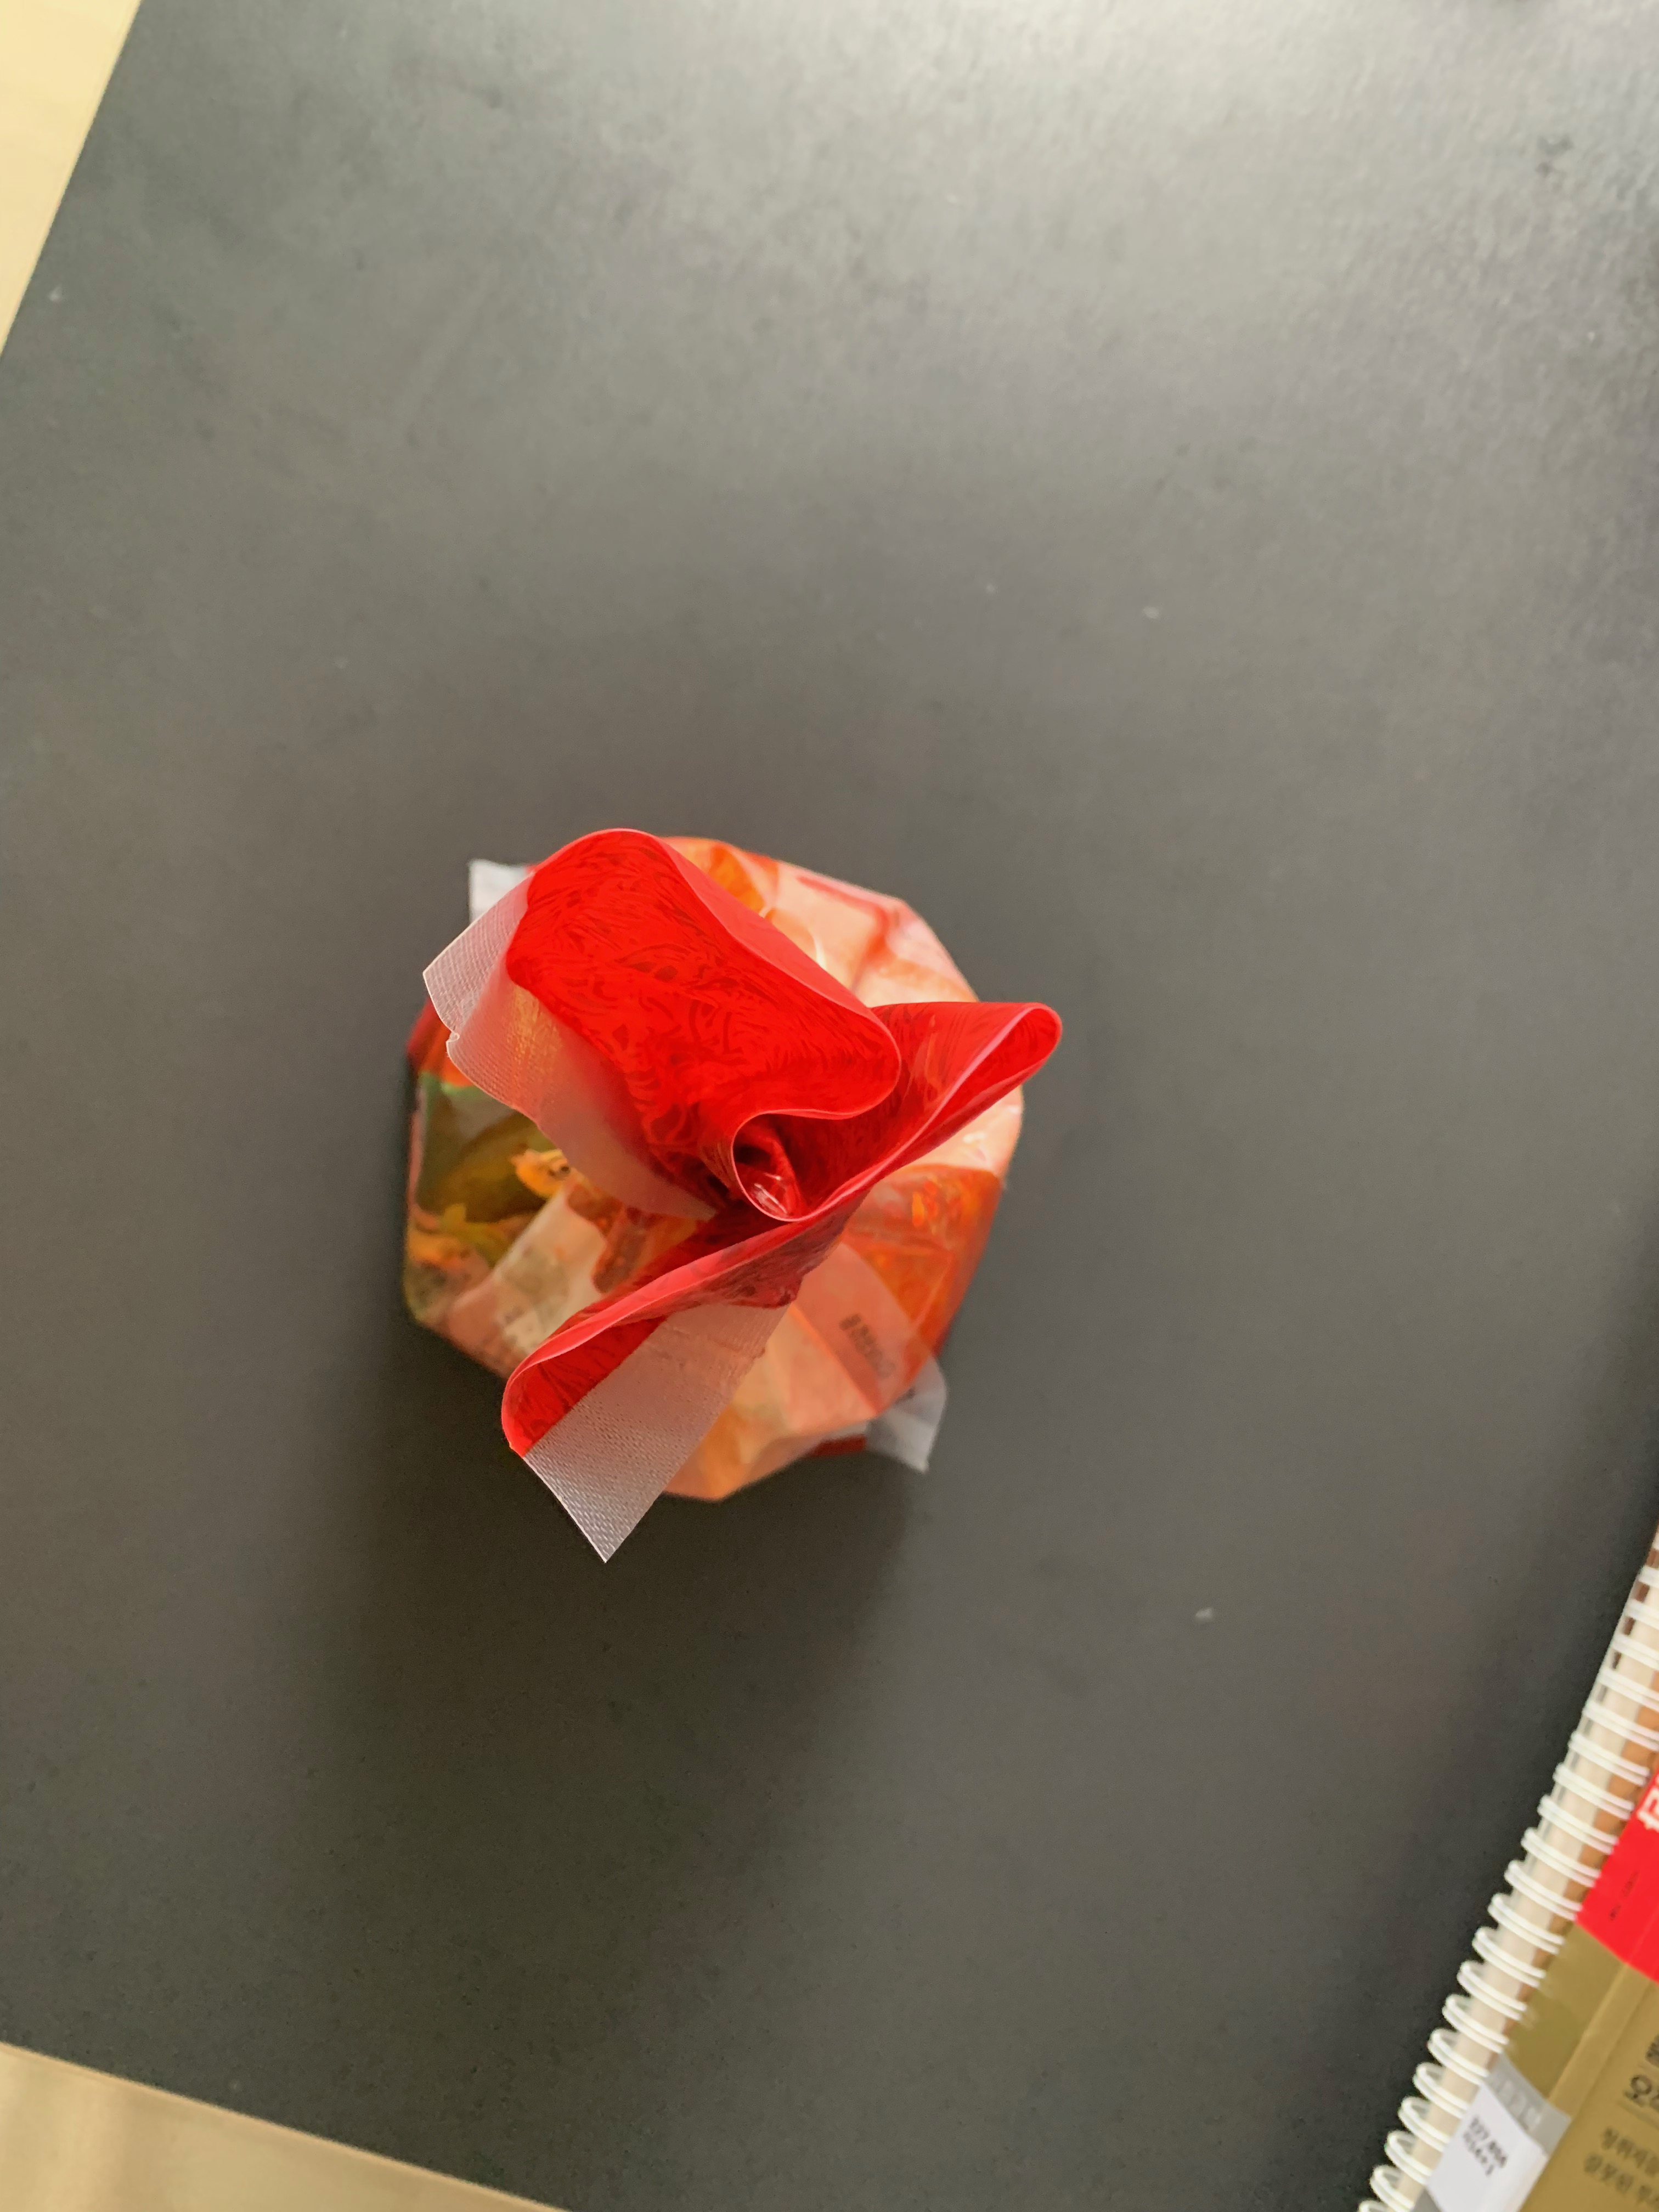kimchi: (399, 824, 1065, 1496)
